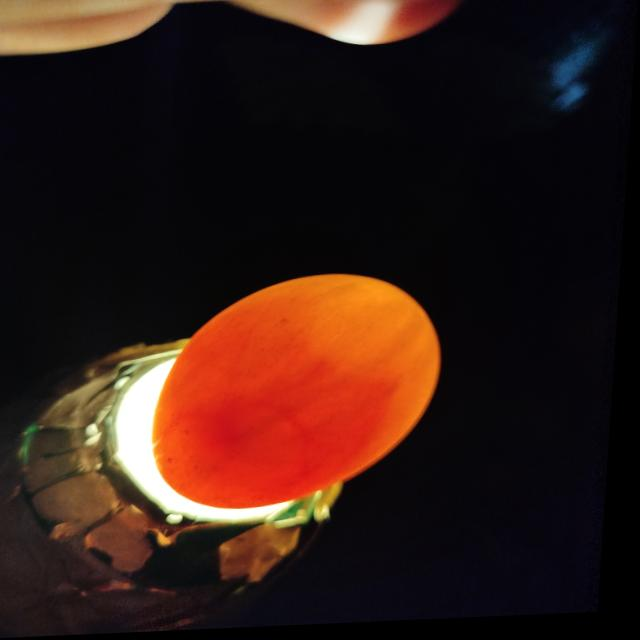Gema Quebrada: (157, 362, 382, 514)
